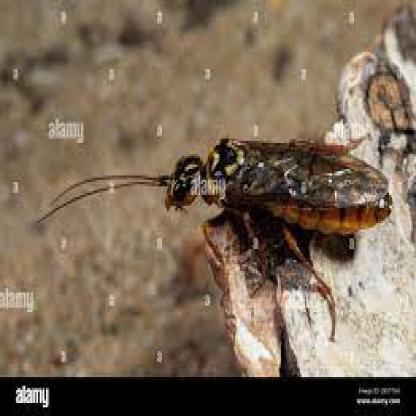sawfly: (54, 129, 396, 349)
